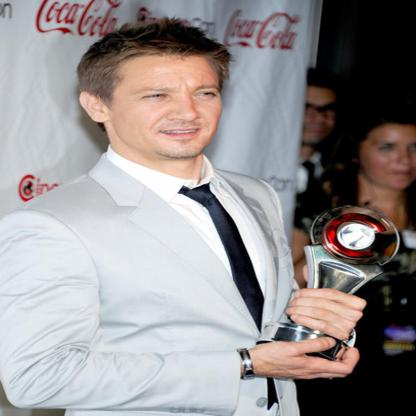face: (112, 49, 224, 156), (363, 126, 416, 189), (294, 88, 339, 145)
